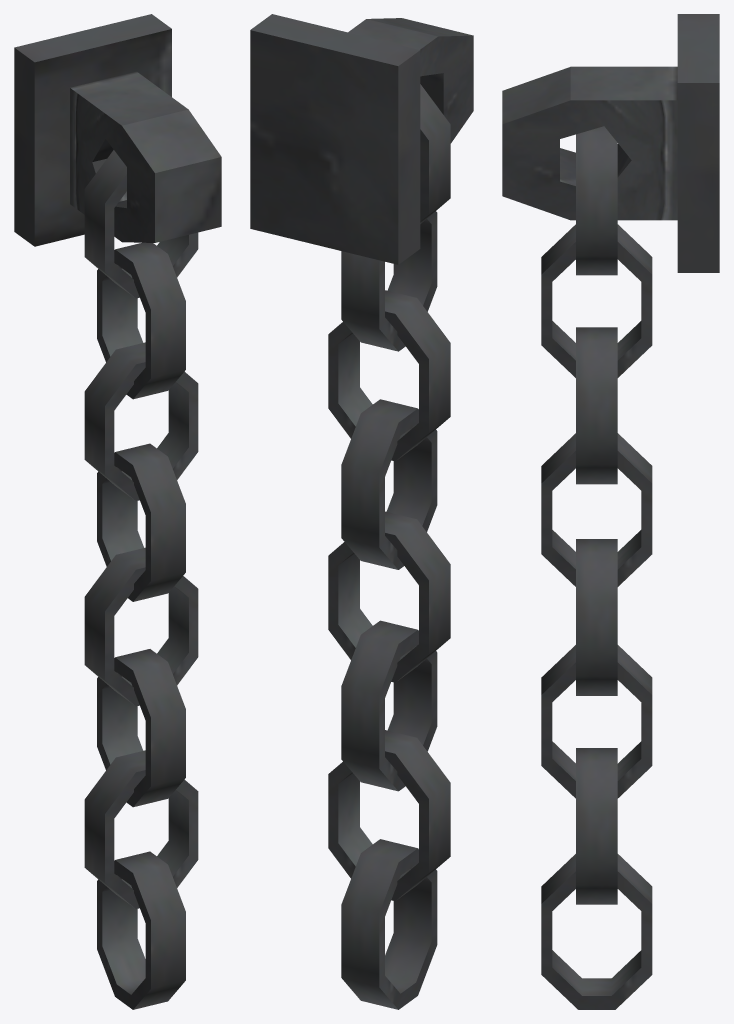
The model's file is wall-chains-01.fbx.
The picture shows the model from 3 angles, left to right: view 1: azimuth 30°, elevation 25°; view 2: azimuth 150°, elevation 25°; view 3: azimuth 270°, elevation 25°; orthographic projection. The views are drawn at different scales.
Visible parts, largest first — view 1: Cube.246; view 2: Cube.246; view 3: Cube.246.
Boxes of the visible parts, x1,y1,x2,y2 form: Cube.246: (14,14,221,1009); Cube.246: (250,14,473,1009); Cube.246: (502,14,719,1009).
Bounding box in the file's own units: 0.1977 × 1.27 × 0.2624.
